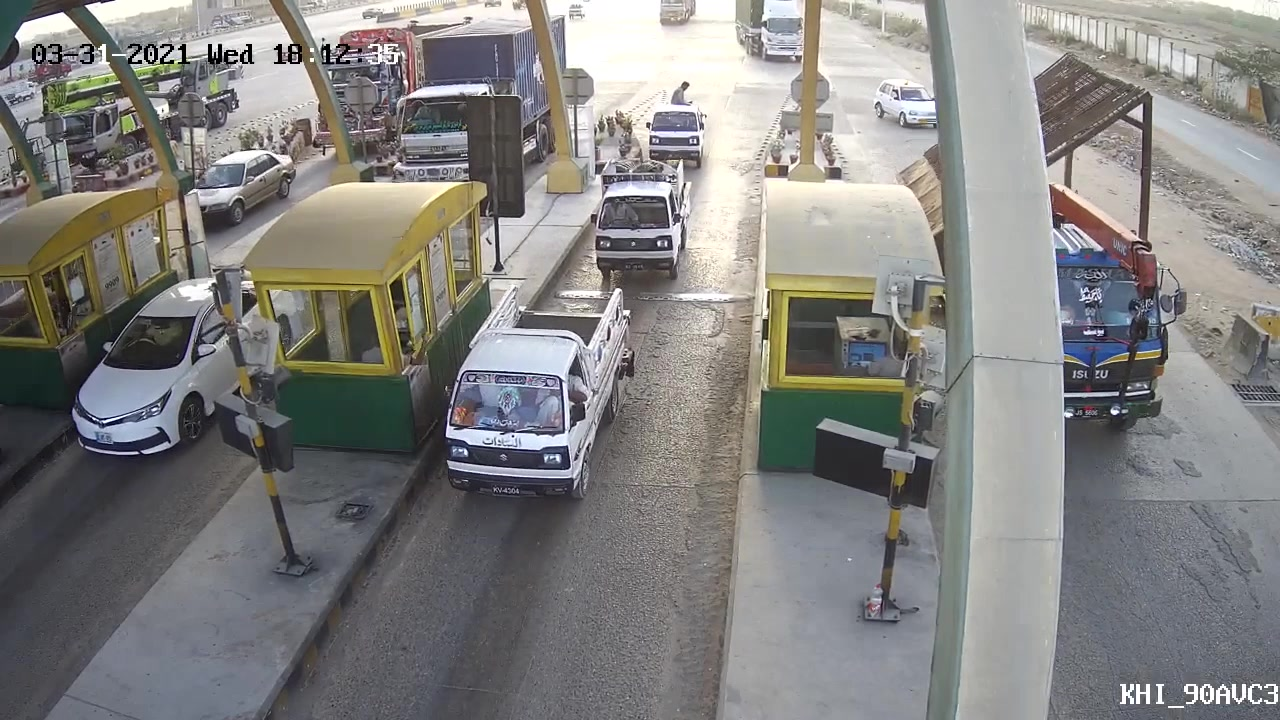F1: (432, 284, 640, 509), (560, 151, 698, 281)
